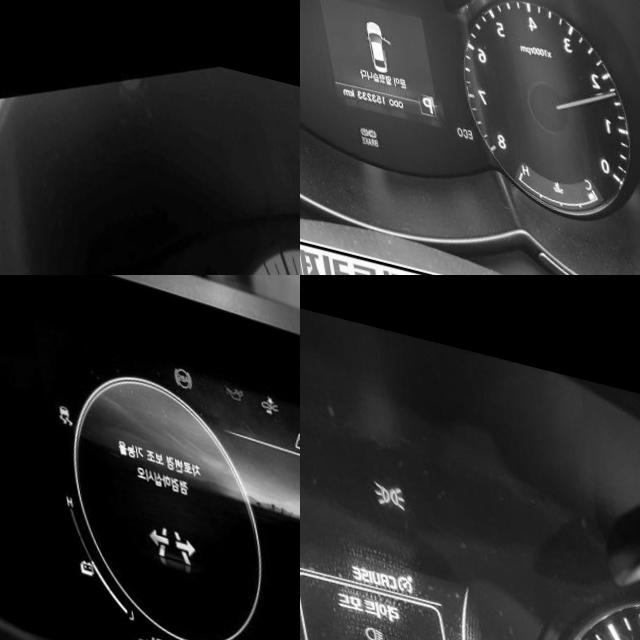Central Warning lamp: (284, 409, 300, 431)
SideLamp: (367, 469, 401, 503)
